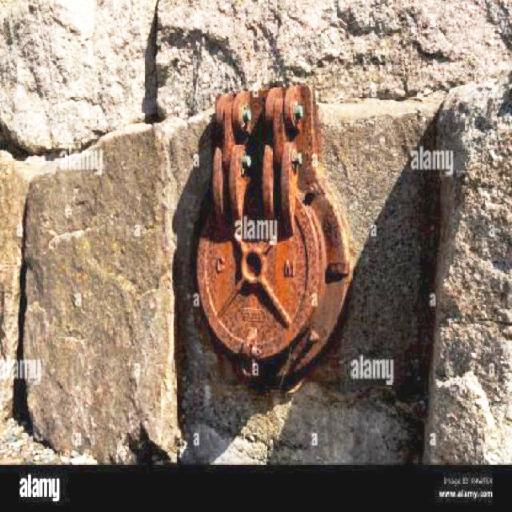corrosion: (191, 89, 358, 378)
